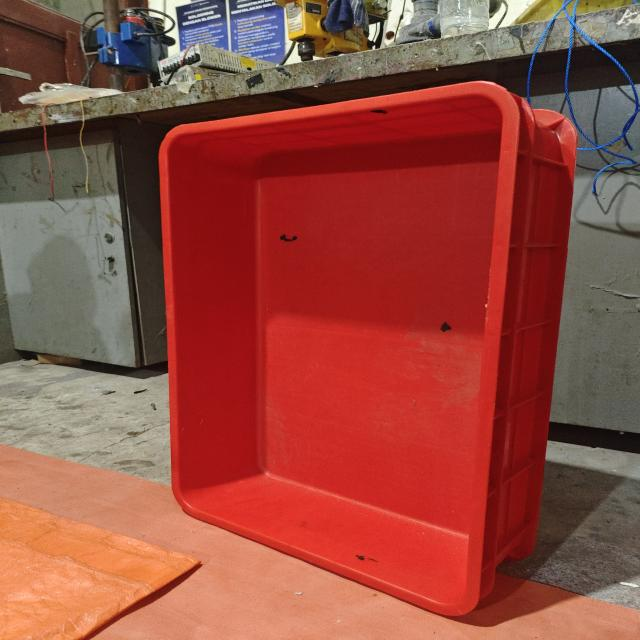red plastic box: (159, 81, 578, 617)
